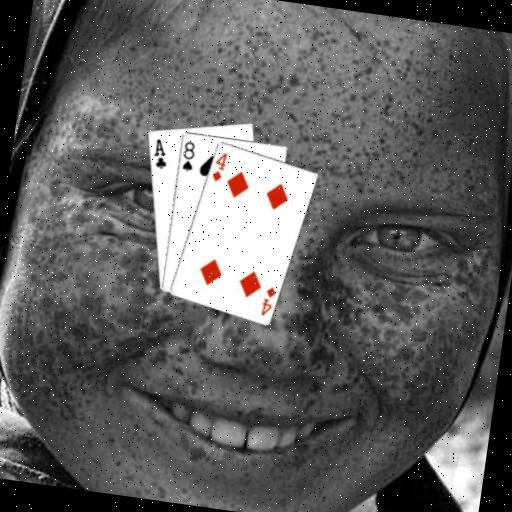4D: (207, 148, 229, 184), (257, 282, 278, 318)
8S: (178, 137, 198, 173)
AC: (149, 135, 172, 171)
